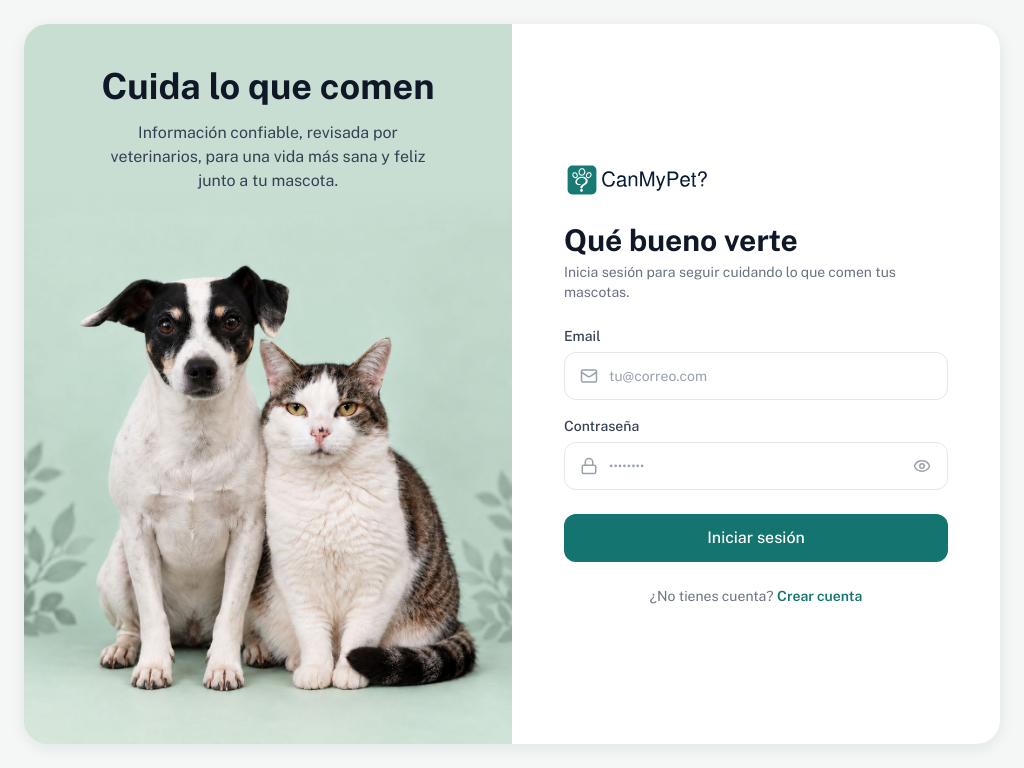
Test: LoginPage › reports a connection problem instead of wrong credentials
This screenshot has width=1024, height=768.
Step 1. Type "ana@correo.com" into the field labelled "Email" → (756, 376), box top-left (564, 352), bottom-right (948, 400)
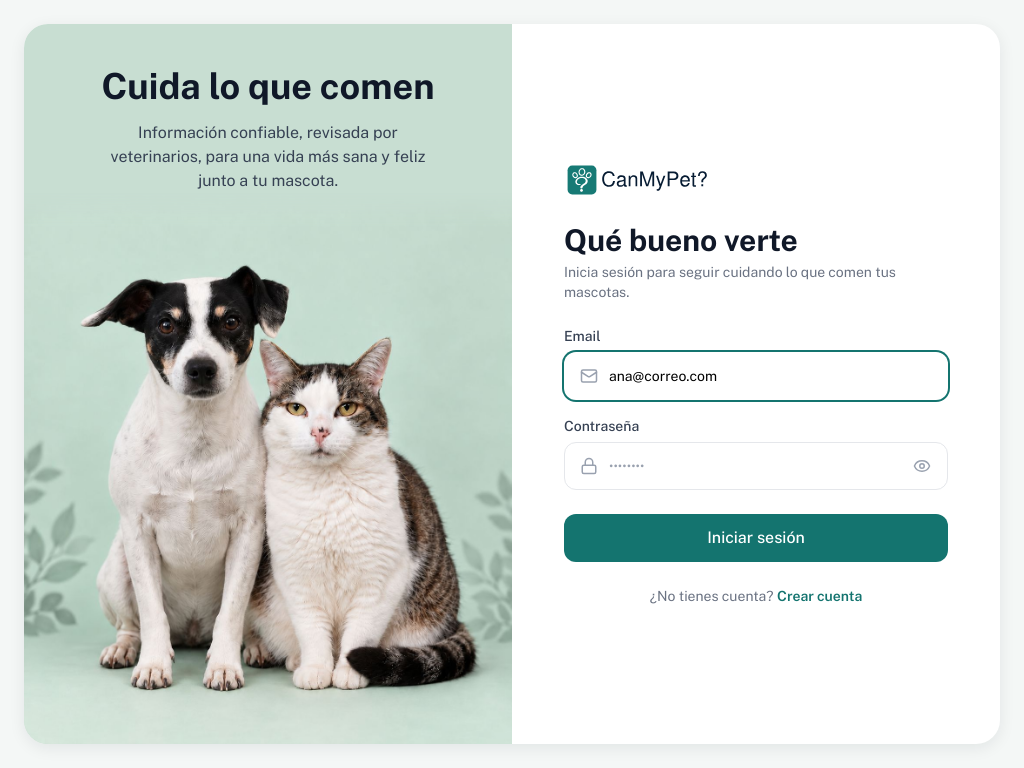
Step 2. Type "secreto123" into the password field labelled "Contraseña" → (756, 466), box top-left (564, 442), bottom-right (948, 490)
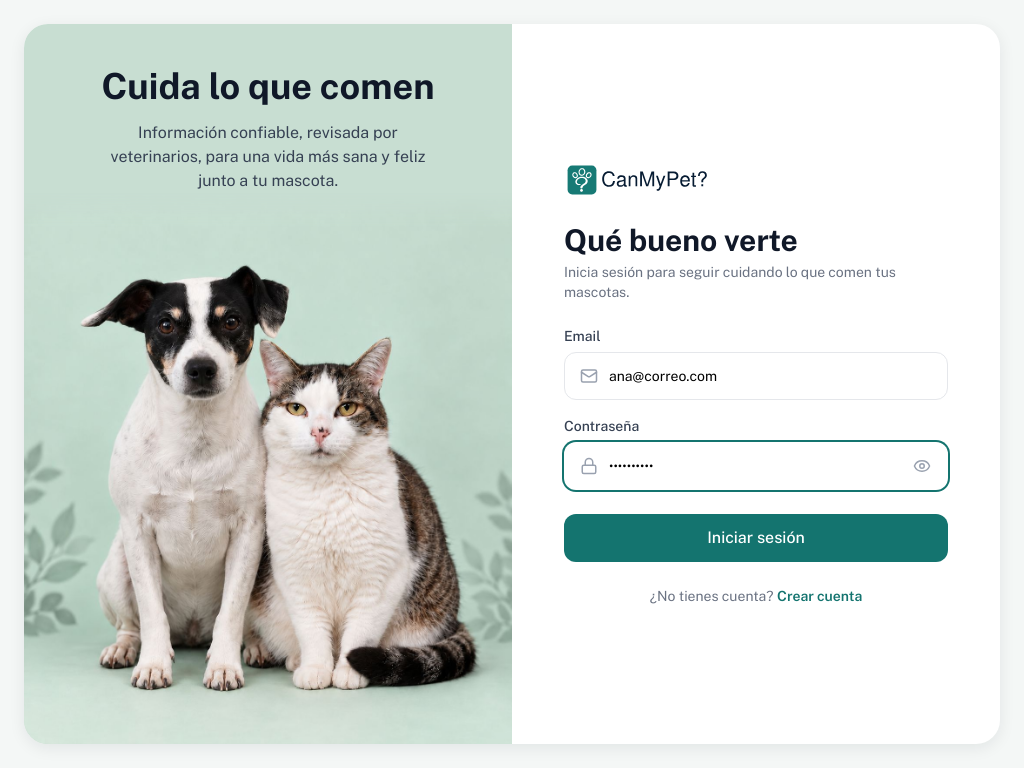
Step 3. Click the button "Iniciar sesión" → (756, 538), box top-left (564, 514), bottom-right (948, 562)
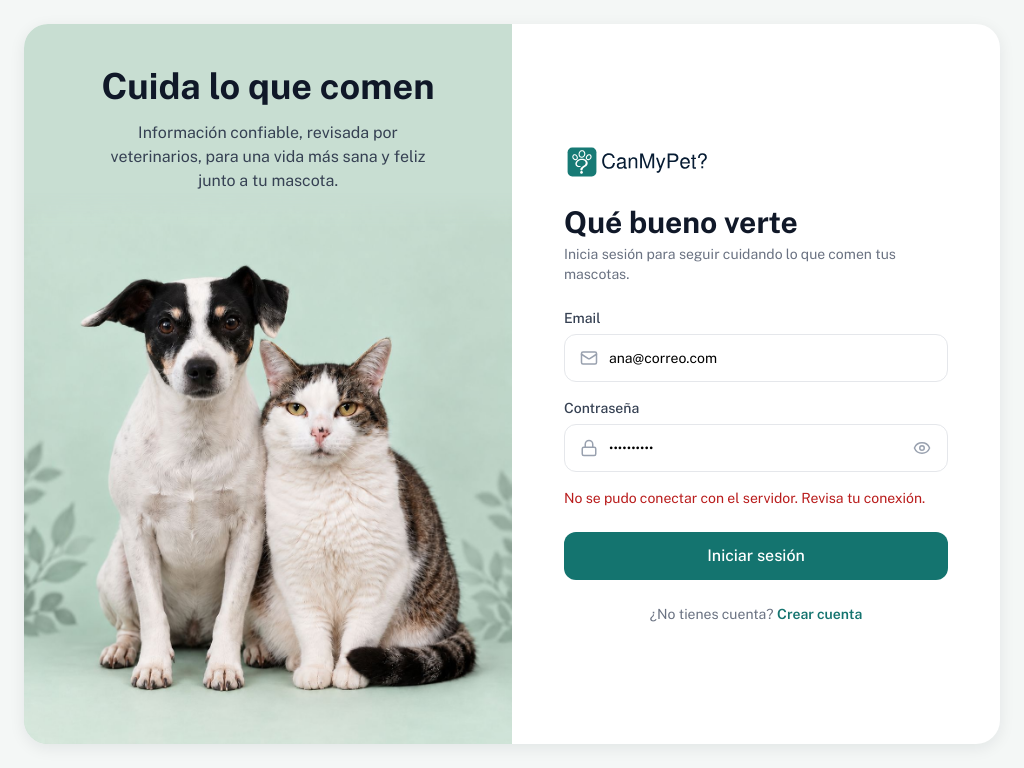
Expected: the message shows "No se pudo conectar con el servidor.", top-left (564, 490), bottom-right (925, 506)
